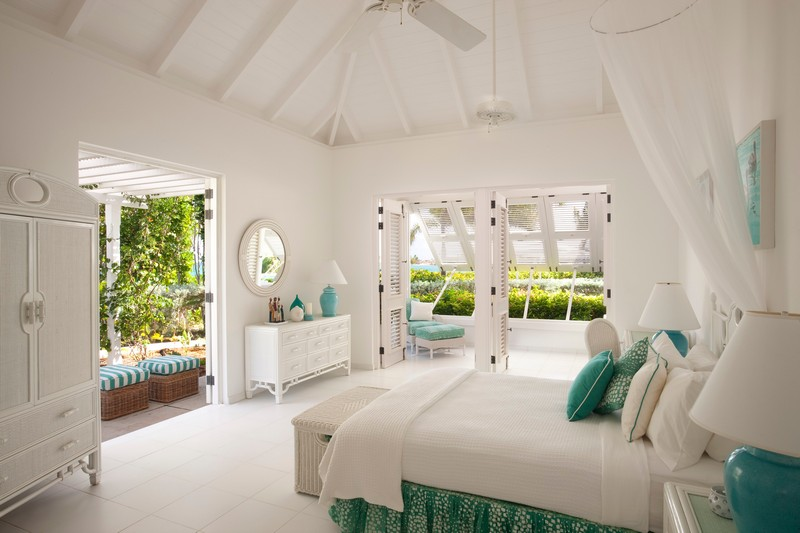bed: (321, 339, 719, 532)
door: (84, 147, 228, 433), (495, 189, 614, 371), (376, 189, 486, 374)
lamp: (685, 309, 796, 528), (637, 279, 696, 369), (306, 257, 350, 314)
stool: (241, 313, 355, 395)
